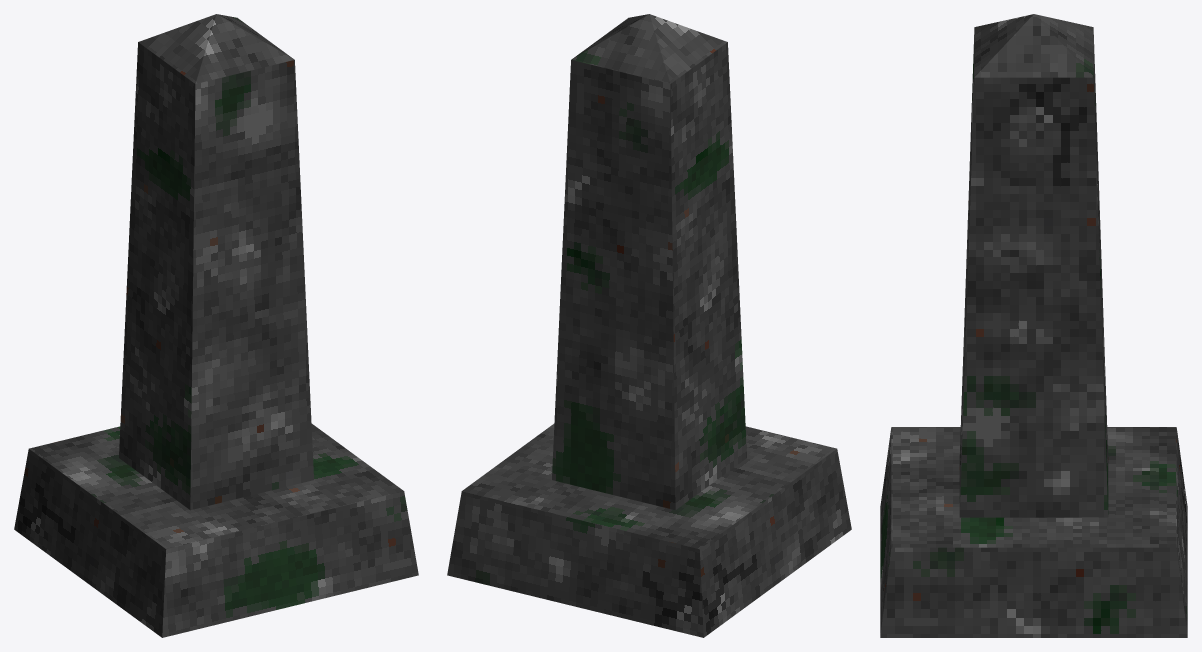
The model's file is BasicGrave2.fbx.
3 renders of one model, left to right at view 1: azimuth 30°, elevation 25°; view 2: azimuth 150°, elevation 25°; view 3: azimuth 270°, elevation 25°, orthographic. The views are drawn at different scales.
Parts seen in each view (by area): view 1: BasicGraveType2; view 2: BasicGraveType2; view 3: BasicGraveType2.
Part boxes in pixels (left/top/right/bottom): BasicGraveType2: left=14, top=14, right=418, bottom=637; BasicGraveType2: left=447, top=14, right=851, bottom=637; BasicGraveType2: left=880, top=14, right=1187, bottom=637.
Size of the model in its own units: 35.01 by 70.19 by 35.01.
